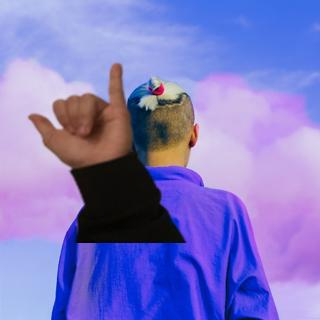HAVE: (28, 59, 145, 172)
